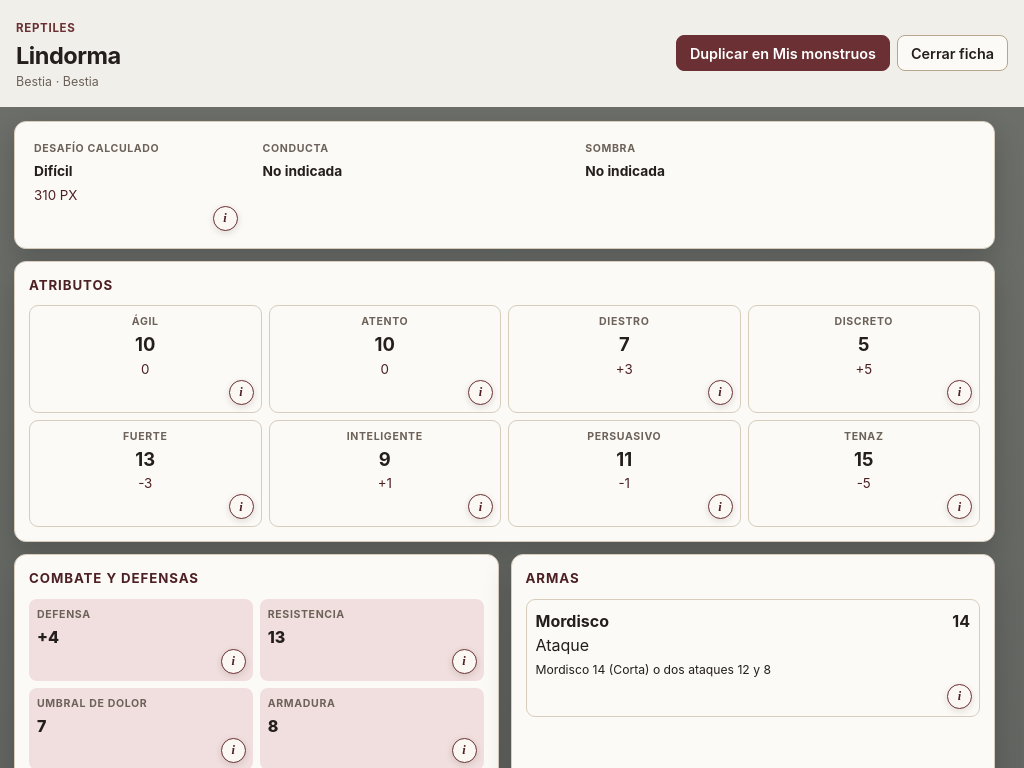
Test case: MonsterReferenceSheet › reconstruye ataques naturales sin Arma natural cuando los define Combate sin armas
The image size is (1024, 768).
Click the button named "Ver cálculo de ataque de Mordisco".
click(960, 696)  # box [947,684,972,709]
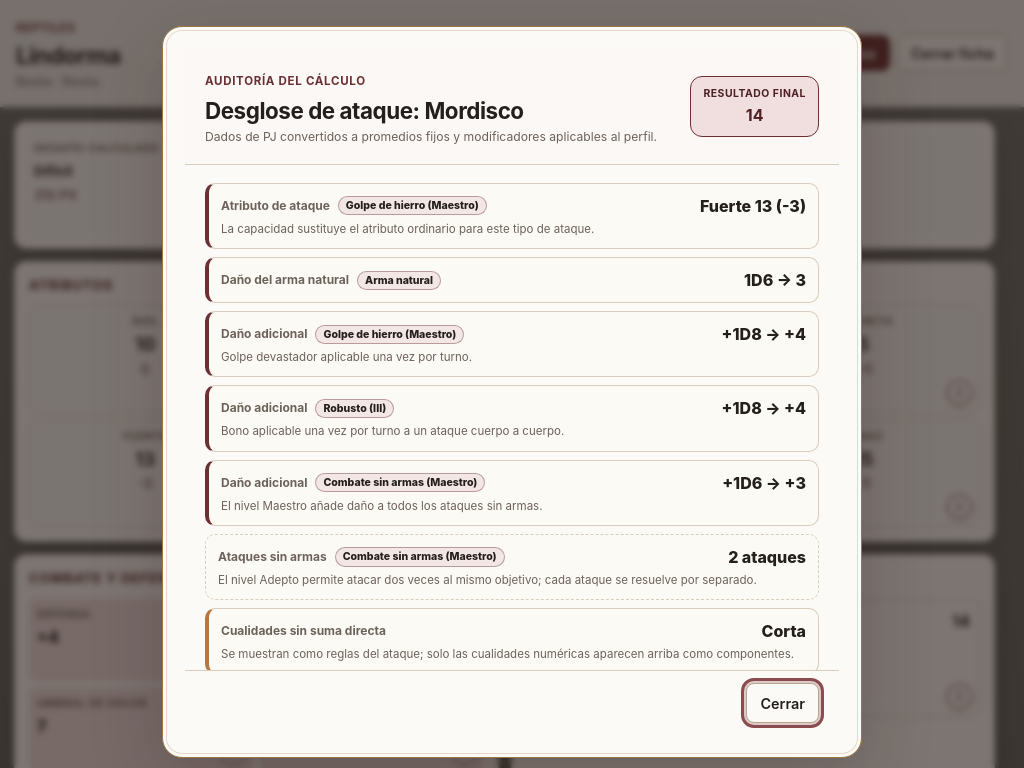
Result: the text "Robusto (III)" is shown at [316,399,394,418]
